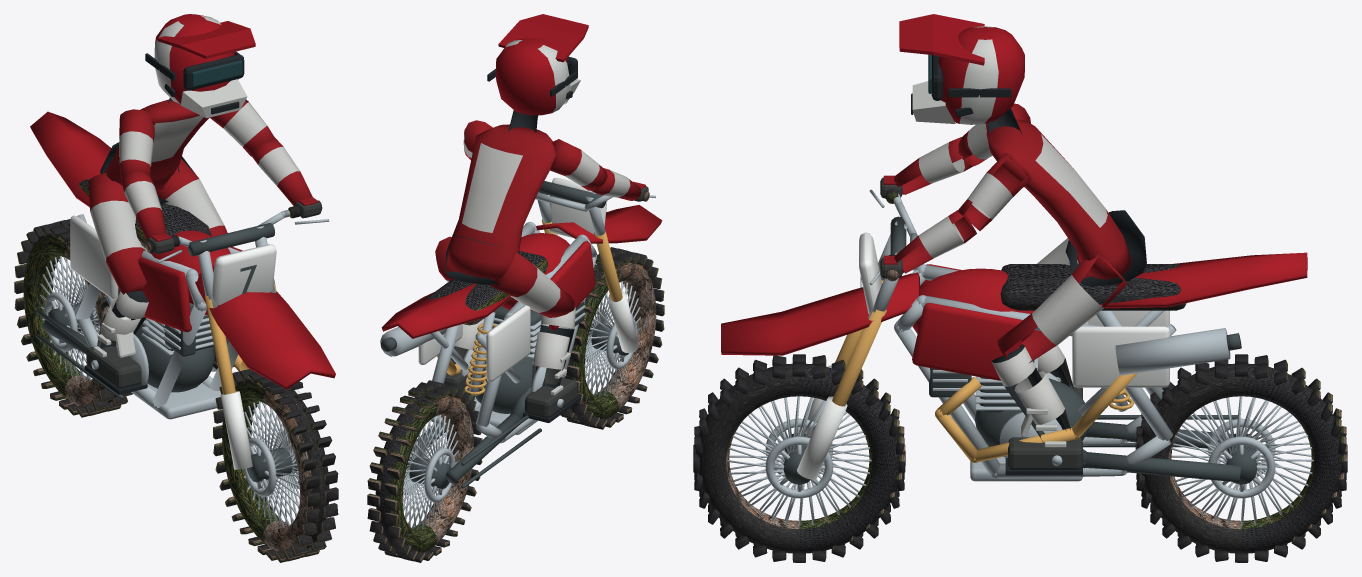
The model's file is bike-v3.glb.
3 renders of one model, left to right at view 1: azimuth 30°, elevation 25°; view 2: azimuth 150°, elevation 25°; view 3: azimuth 270°, elevation 25°, orthographic. The views are drawn at different scales.
Parts seen in each view (by area): view 1: frontWheel, rearWheel, Team front fender, LeftThighTeam, Team rear fender, torsoTeam, helmetTeam, Front numberplate, Team radiator shroud, Side numberplate, RightThighTeam, Engine crankcase (+25 smaller); view 2: rearWheel, frontWheel, torsoTeam, helmetTeam, Team rear fender, LeftThighTeam, Side numberplate, Team front fender, Helmet visor peak, LeftUpperArmTeam, Team radiator shroud, Seat (+24 smaller); view 3: frontWheel, rearWheel, torsoTeam, Team front fender, Team radiator shroud.001, helmetTeam, Team rear fender, Seat, RightThighTeam, Side numberplate.001, Silencer, Helmet visor peak (+22 smaller).
Boxes of the visible parts, x1=… form: frontWheel: x1=213, y1=369, x2=338, y2=562; rearWheel: x1=14, y1=219, x2=132, y2=417; Team front fender: x1=195, y1=265, x2=335, y2=389; LeftThighTeam: x1=88, y1=173, x2=146, y2=294; Team rear fender: x1=30, y1=111, x2=111, y2=206; torsoTeam: x1=104, y1=99, x2=209, y2=191; helmetTeam: x1=154, y1=14, x2=234, y2=104; Front numberplate: x1=212, y1=244, x2=276, y2=305; Team radiator shroud: x1=138, y1=257, x2=191, y2=332; Side numberplate: x1=70, y1=215, x2=118, y2=298; RightThighTeam: x1=156, y1=156, x2=233, y2=246; Engine crankcase: x1=135, y1=319, x2=214, y2=392; rearWheel: x1=367, y1=380, x2=482, y2=562; frontWheel: x1=560, y1=247, x2=664, y2=429; torsoTeam: x1=448, y1=124, x2=555, y2=278; helmetTeam: x1=495, y1=38, x2=569, y2=115; Team rear fender: x1=381, y1=283, x2=511, y2=338; LeftThighTeam: x1=488, y1=252, x2=574, y2=317; Side numberplate: x1=486, y1=305, x2=530, y2=381; Team front fender: x1=536, y1=205, x2=662, y2=243; Helmet visor peak: x1=498, y1=14, x2=588, y2=62; LeftUpperArmTeam: x1=550, y1=139, x2=607, y2=190; Team radiator shroud: x1=549, y1=241, x2=595, y2=330; Seat: x1=426, y1=251, x2=547, y2=325; frontWheel: x1=693, y1=354, x2=905, y2=562; rearWheel: x1=1135, y1=354, x2=1347, y2=562; torsoTeam: x1=986, y1=119, x2=1131, y2=279; Team front fender: x1=721, y1=272, x2=919, y2=355; Team radiator shroud.001: x1=912, y1=303, x2=1022, y2=380; helmetTeam: x1=938, y1=26, x2=1024, y2=124; Team rear fender: x1=1099, y1=252, x2=1307, y2=308; Seat: x1=1000, y1=264, x2=1186, y2=310; RightThighTeam: x1=997, y1=255, x2=1127, y2=363; Side numberplate.001: x1=1072, y1=326, x2=1169, y2=387; Silencer: x1=1115, y1=328, x2=1230, y2=375; Helmet visor peak: x1=899, y1=14, x2=984, y2=65.
Size of the model in its own units: 0.7232 by 1.89 by 2.15.
Materials: 14 (2 with a texture image).
